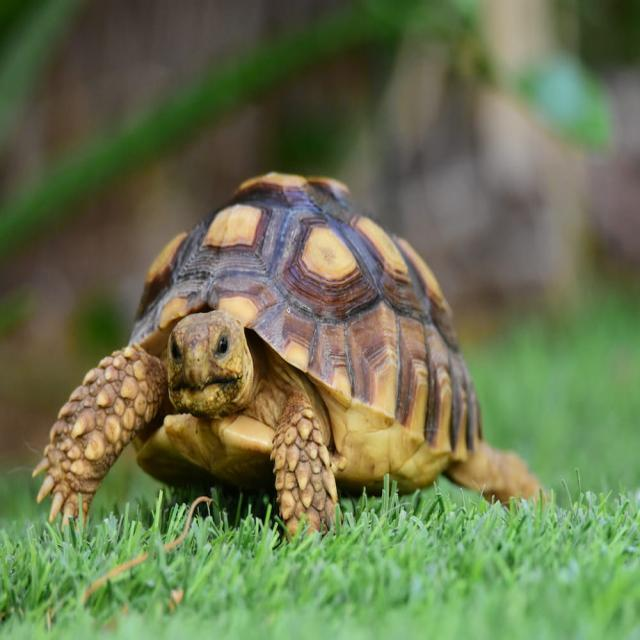Turtle: (104, 157, 510, 528)
